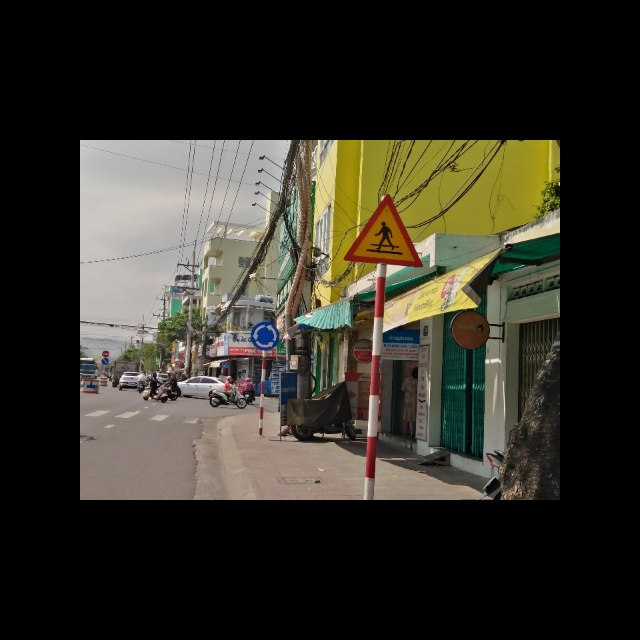Nơi giao nhau chạy theo vòng xuyến: (251, 320, 279, 349)
Đường người đi bộ sang đường: (342, 192, 423, 268)
